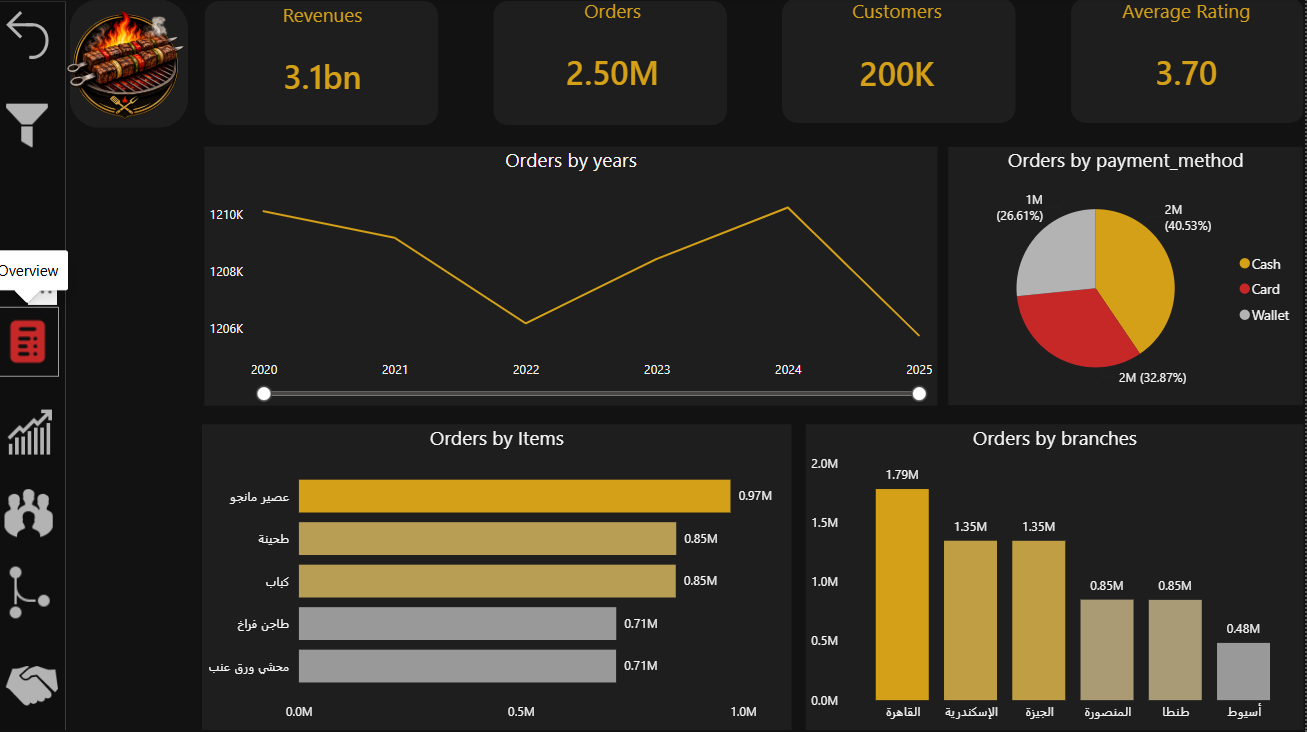

The page's visual inventory and layout, read from the dashboard file:
{"tool":"powerbi","page":{"name":"Overview","canvas":[1280,720],"ordinal":0},"visuals":[{"type":"group","id":"g1","title":"KPIs backgroud","box":[203,0,1076.1,124.7],"z":0,"group":"g3"},{"type":"card","title":"Orders","fields":{"Values":["Table_Measures.Number of Orders"]},"box":[489.1,0,226.2,122.3],"z":0,"group":"g4"},{"type":"shape","box":[203,2.1,228.7,122.3],"z":0,"group":"g1"},{"type":"shape","title":"Left","box":[0,3.7,67.3,712.9],"z":0,"group":"g5"},{"type":"group","id":"g2","title":"Logo","box":[0,1.2,249.5,127.2],"z":500},{"type":"group","id":"g3","title":"KPIs","box":[203,0,1076.8,126.4],"z":1000},{"type":"group","id":"g4","title":"KPIs Values","box":[205.4,0,1074.4,126.4],"z":1000,"group":"g3"},{"type":"shape","box":[485.3,2.6,228.7,122.3],"z":1000,"group":"g1"},{"type":"card","title":"Revenues","fields":{"Values":["Table_Measures.Total Revenue"]},"box":[205.4,4.2,226.2,122.3],"z":1000,"group":"g4"},{"type":"image","box":[0,302.6,59.9,68.5],"z":1000,"group":"g5"},{"type":"lineChart","title":"Orders by years","fields":{"Category":["resturant_final.year"],"Y":["Table_Measures.Total Orders"]},"box":[203.4,145.7,717.1,252.5],"z":1500},{"type":"card","title":"Customers","fields":{"Values":["Table_Measures.Total customers"]},"box":[767.4,0,225,123.5],"z":2000,"group":"g4"},{"type":"shape","box":[767.7,0.3,228.7,122.3],"z":2000,"group":"g1"},{"type":"clusteredColumnChart","title":" Orders by branches","fields":{"Category":["resturant_final.branch"],"Y":["Table_Measures.Total Orders"]},"box":[791.3,417.2,487.7,300.1],"z":2000},{"type":"image","box":[7.3,471.1,47.5,66.1],"z":2000,"group":"g5"},{"type":"card","title":"Average Rating","fields":{"Values":["Table_Measures.Avgerage Rating"]},"box":[1046.2,0,233.6,121.1],"z":3000,"group":"g4"},{"type":"shape","box":[1050,0,228.7,122.3],"z":3000,"group":"g1"},{"type":"image","box":[9.7,398.9,43.9,51.4],"z":3000,"group":"g5"},{"type":"clusteredBarChart","title":" Orders by Items","fields":{"Category":["resturant_final.item_name"],"Y":["Table_Measures.Total Orders"]},"box":[200.5,417,577.2,299.6],"z":4000},{"type":"image","box":[6.1,645,56,52.6],"z":4000,"group":"g5"},{"type":"pieChart","title":" Orders by payment_method","fields":{"Category":["resturant_final.payment_method"],"Y":["Table_Measures.Total Orders"]},"box":[930.6,145.7,347.7,252.5],"z":5000},{"type":"image","box":[0,553.2,63.4,57.5],"z":5000,"group":"g5"},{"type":"group","id":"g5","title":"Navigation buttons","box":[0,3.7,67.3,712.9],"z":5500},{"type":"image","title":"filter","box":[6.1,101.9,46.5,46.5],"z":6000,"group":"g5"},{"type":"actionButton","box":[0,6.2,67.3,60],"z":7000,"group":"g5"},{"type":"shape","box":[70.9,1.2,116.2,126],"z":7250,"group":"g2"},{"type":"image","box":[0,7.3,249.5,121.1],"z":8500,"group":"g2"}]}

Visuals, with their boxes on the page's 1280x720 design canvas (x1, y1, x2, y2). These are canvas units, not pixel positions in the 1307x732 screenshot, which may show the page scaled, cropped or inside an application window:
"KPIs backgroud" group: pyautogui.locateOnScreen(203, 0, 1279, 125)
"Orders" card: pyautogui.locateOnScreen(489, 0, 715, 122)
shape: pyautogui.locateOnScreen(203, 2, 432, 124)
"Left" shape: pyautogui.locateOnScreen(0, 4, 67, 717)
"Logo" group: pyautogui.locateOnScreen(0, 1, 250, 128)
"KPIs" group: pyautogui.locateOnScreen(203, 0, 1280, 126)
"KPIs Values" group: pyautogui.locateOnScreen(205, 0, 1280, 126)
shape: pyautogui.locateOnScreen(485, 3, 714, 125)
"Revenues" card: pyautogui.locateOnScreen(205, 4, 432, 126)
image: pyautogui.locateOnScreen(0, 303, 60, 371)
"Orders by years" lineChart: pyautogui.locateOnScreen(203, 146, 920, 398)
"Customers" card: pyautogui.locateOnScreen(767, 0, 992, 124)
shape: pyautogui.locateOnScreen(768, 0, 996, 123)
" Orders by branches" clusteredColumnChart: pyautogui.locateOnScreen(791, 417, 1279, 717)
image: pyautogui.locateOnScreen(7, 471, 55, 537)
"Average Rating" card: pyautogui.locateOnScreen(1046, 0, 1280, 121)
shape: pyautogui.locateOnScreen(1050, 0, 1279, 122)
image: pyautogui.locateOnScreen(10, 399, 54, 450)
" Orders by Items" clusteredBarChart: pyautogui.locateOnScreen(200, 417, 778, 717)
image: pyautogui.locateOnScreen(6, 645, 62, 698)
" Orders by payment_method" pieChart: pyautogui.locateOnScreen(931, 146, 1278, 398)
image: pyautogui.locateOnScreen(0, 553, 63, 611)
"Navigation buttons" group: pyautogui.locateOnScreen(0, 4, 67, 717)
"filter" image: pyautogui.locateOnScreen(6, 102, 53, 148)
actionButton: pyautogui.locateOnScreen(0, 6, 67, 66)
shape: pyautogui.locateOnScreen(71, 1, 187, 127)
image: pyautogui.locateOnScreen(0, 7, 250, 128)
